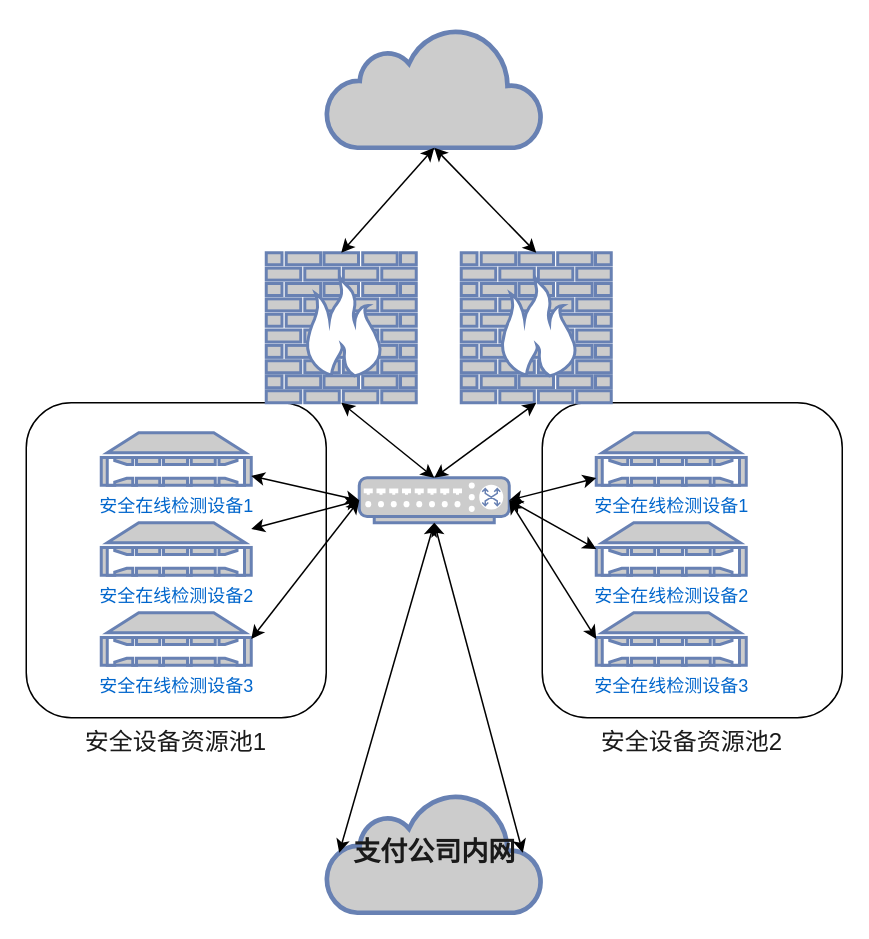
Image size: 869x939. Some labels were removed from this diagram. The shapes that lost their labels are listed below. From the top down, each one's centre as x and y in pixels, then its label:
At pixel 433 87: "外部网络".
At pixel 433 500: "NPB设备".
